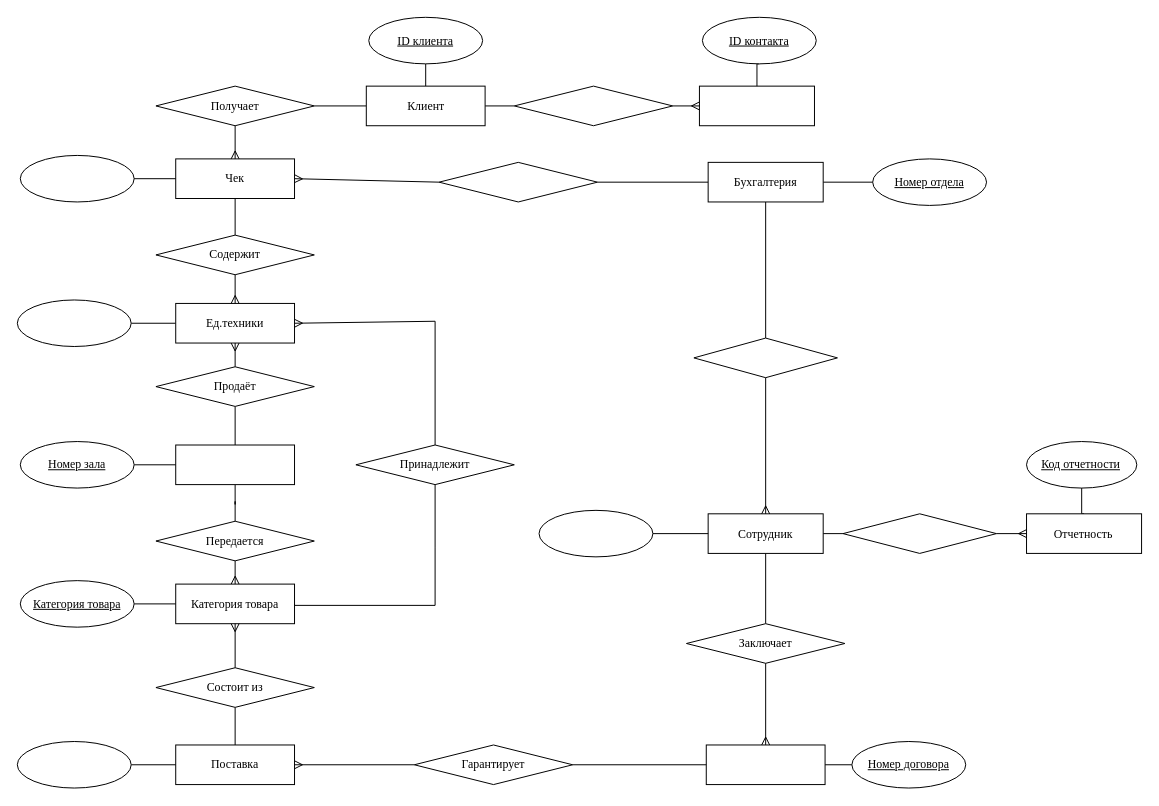
Image size: 1159x806. Some labels were removed from this diagram. The centre of each missing label's shape, as x and y in pixels:
ID сотрудника: (595,533)
Артикул: (73,322)
Договор: (765,764)
Имеет: (593,105)
Код партии: (73,764)
Контакты: (756,105)
Номер чека: (76,178)
Предоставляется: (517,181)
Работает: (765,357)
Составляет: (919,533)
Торговый зал: (235,464)
